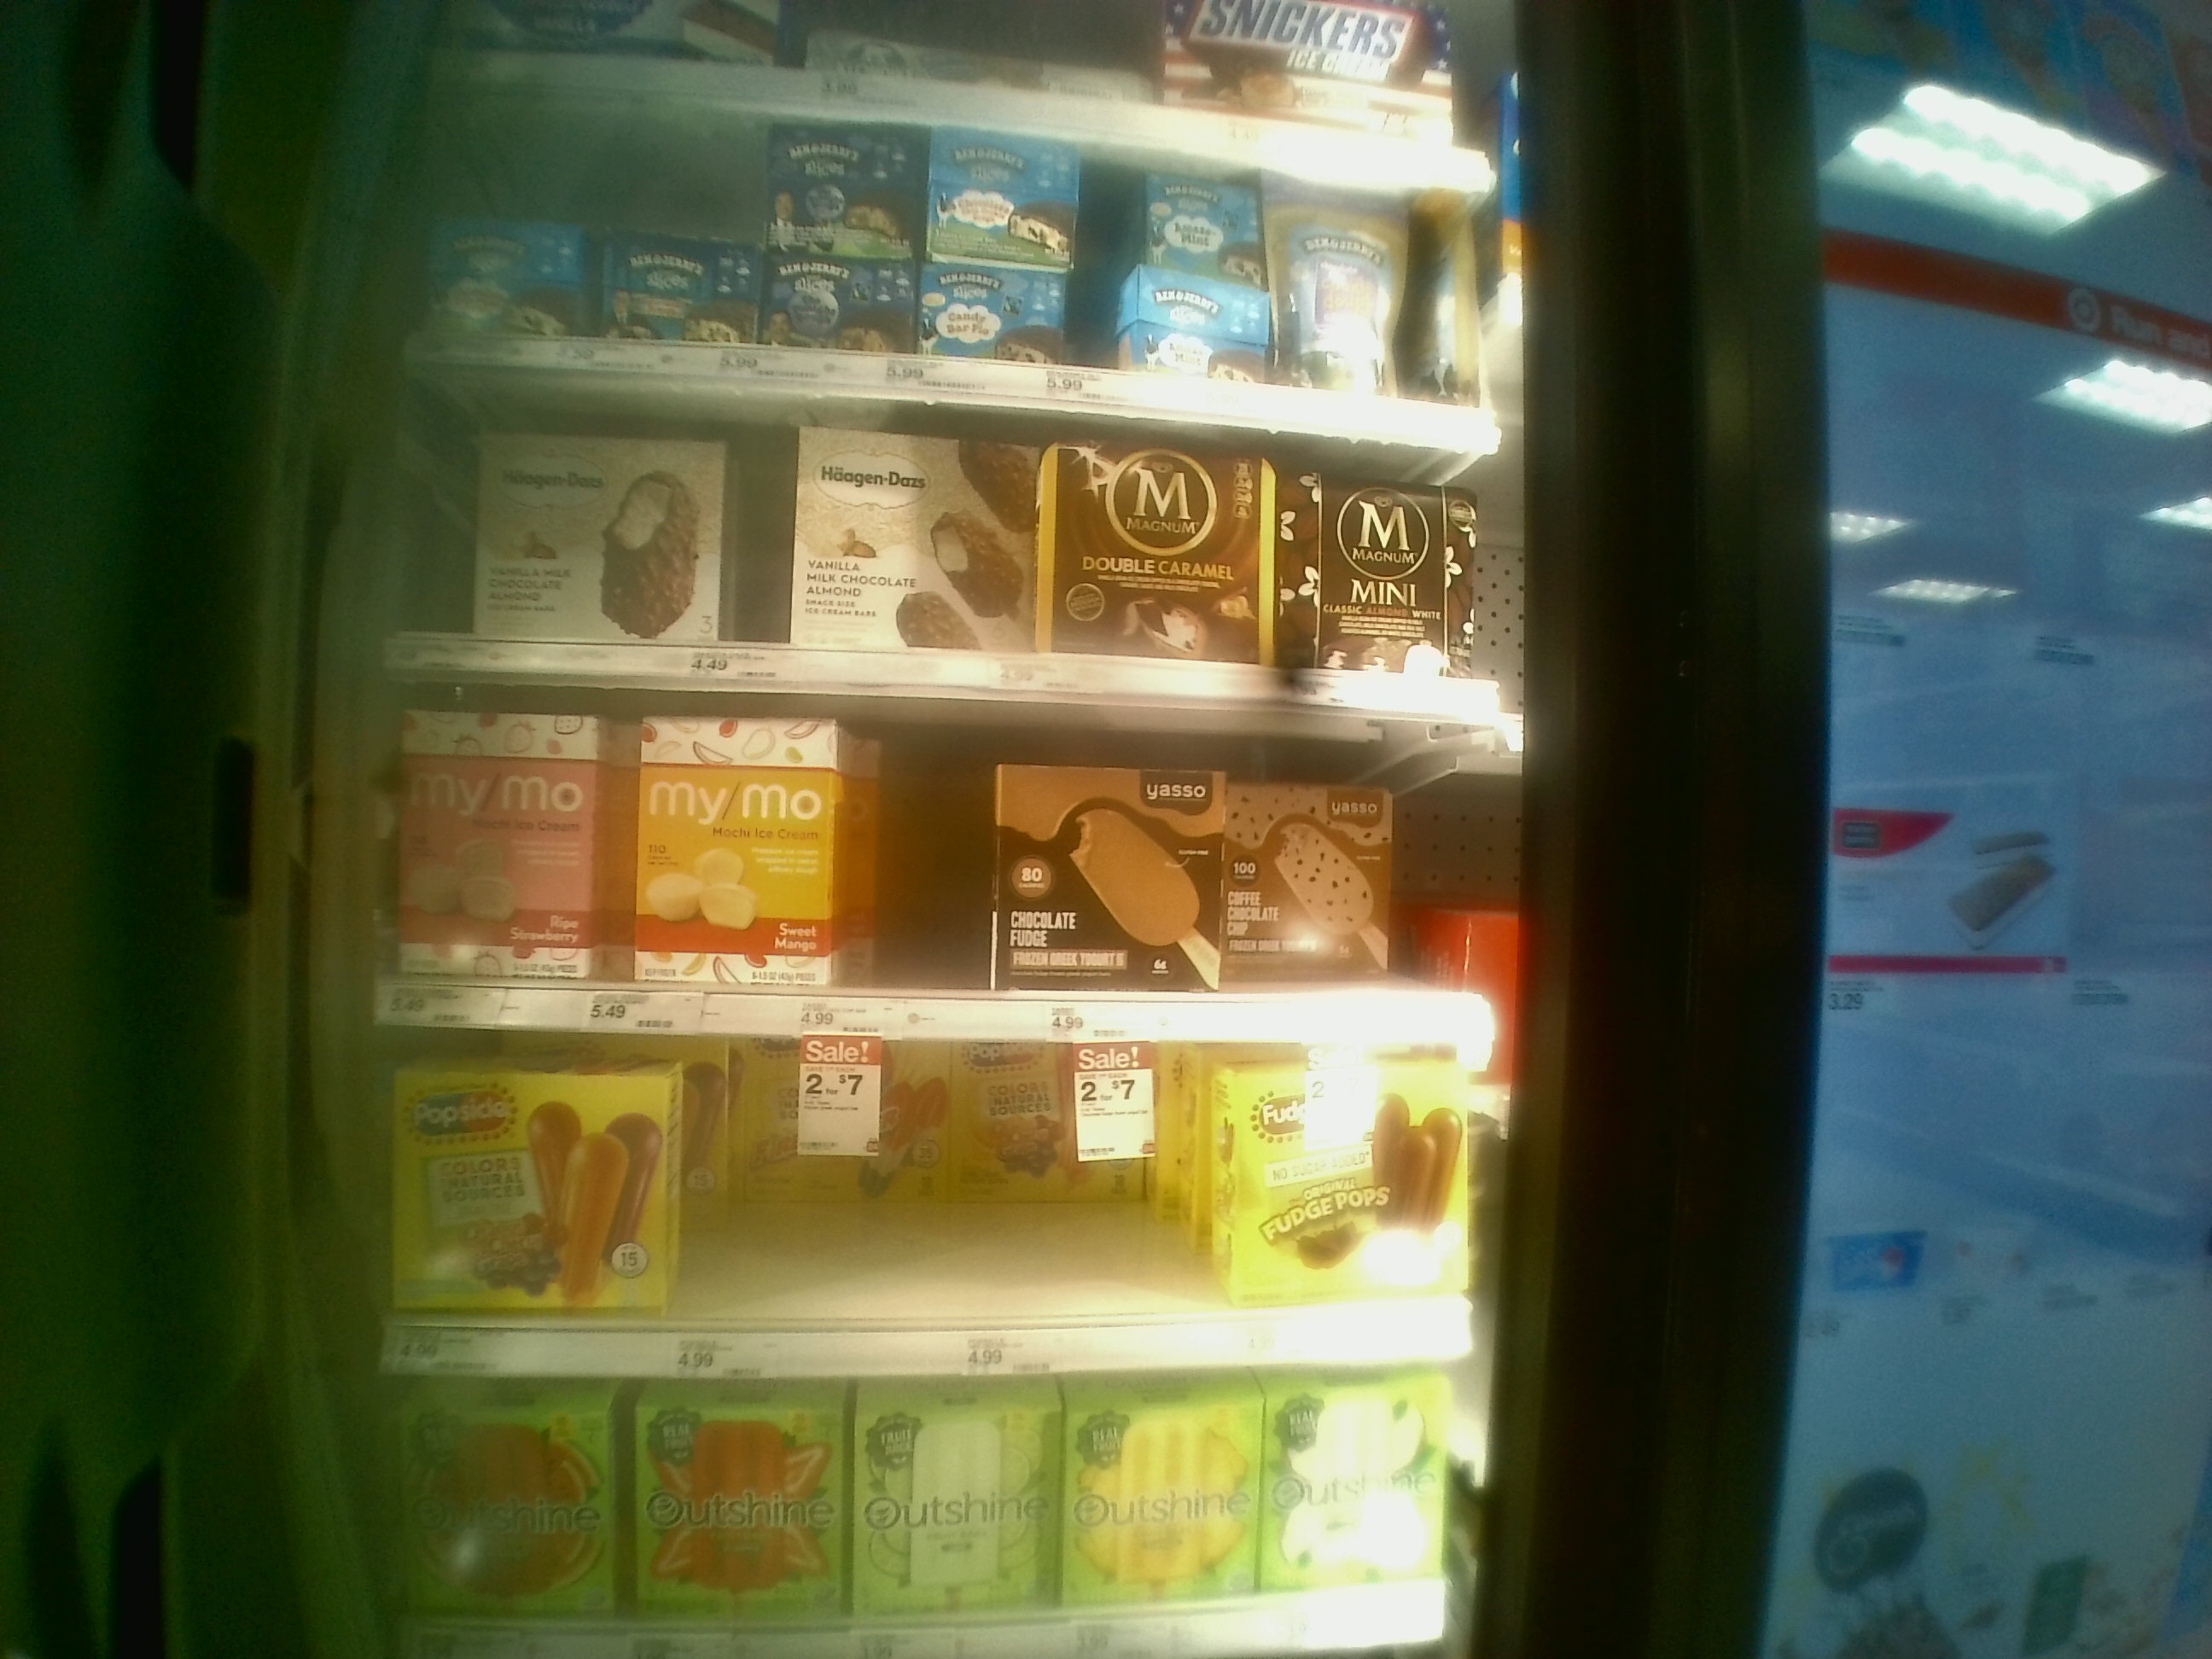ice-cream-shelf: (369, 673, 1505, 1035), (369, 1035, 1479, 1373), (364, 1378, 1484, 1656)
